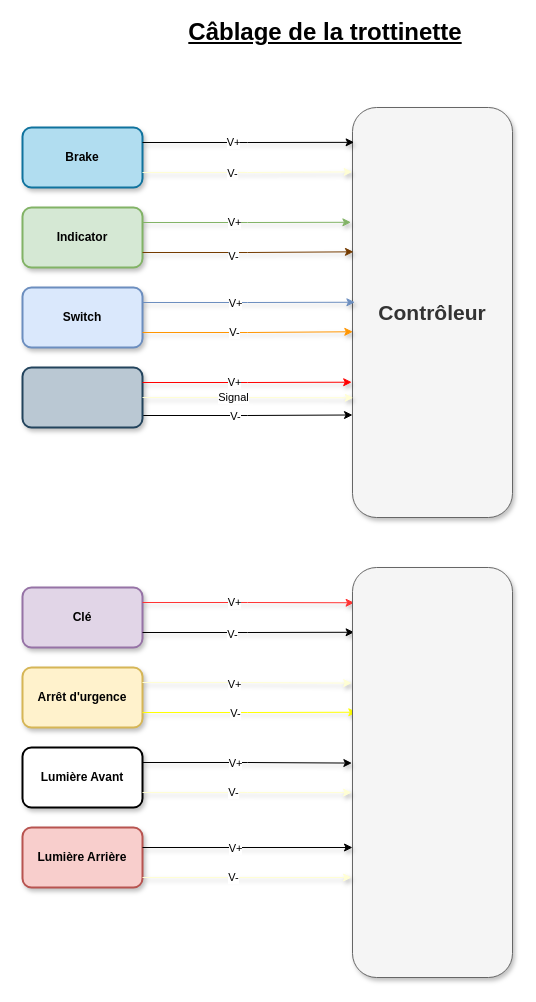
Image size: 536x1002. Some labels were removed from this diagram. Each missing label, with the centre of its shape:
"Drive" goes at (433,773).
"Throttle" goes at (83,398).
